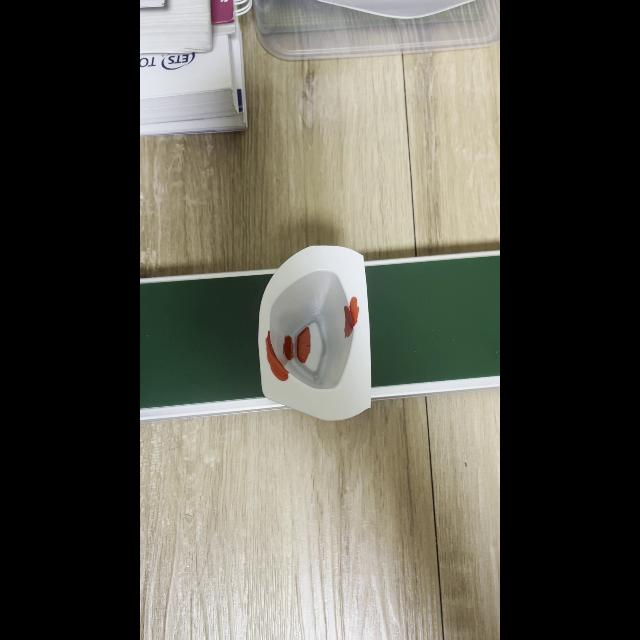dirty: (258, 246, 372, 418)
